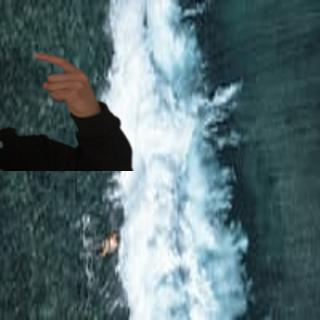WHY: (28, 47, 101, 116)
